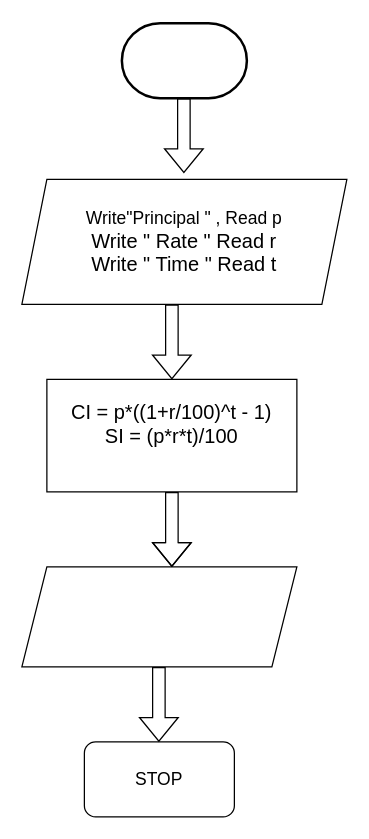
This 369x839 diagram has some shape labels left out. The shapes that lost their labels are listed below. From the top down, each one's centre as x and y in pixels, then its label:
[184,60]: START
[159,616]: Write " SI= " , SI Write " CI = ", CI
